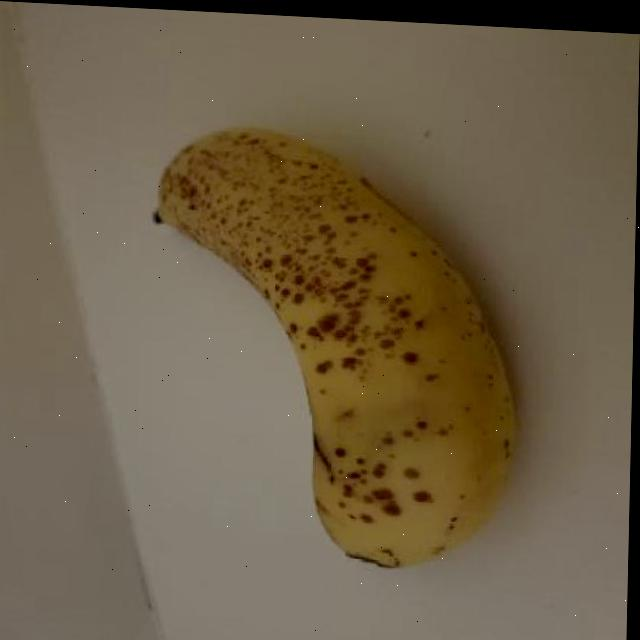banana: (137, 125, 520, 578)
